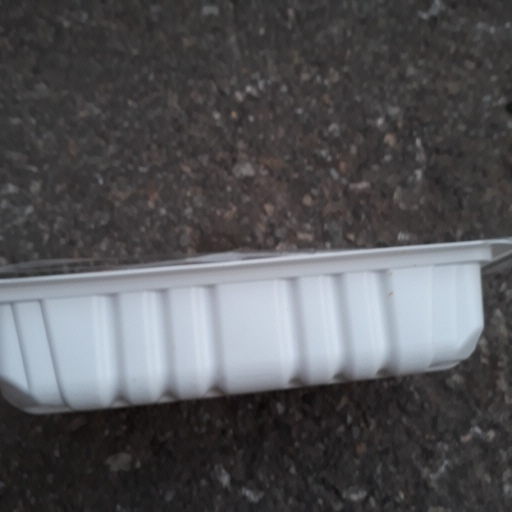Plastic_4: (1, 230, 512, 414)
